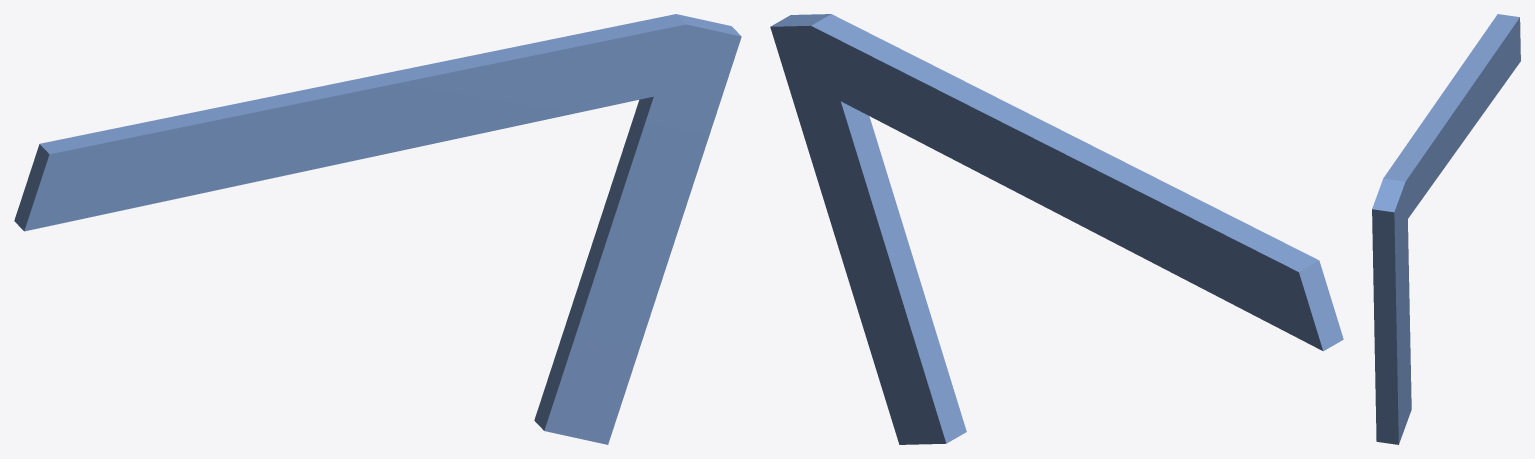
File: New_Number_7.gltf
The picture shows the model from 3 angles, left to right: view 1: azimuth 30°, elevation 25°; view 2: azimuth 150°, elevation 25°; view 3: azimuth 270°, elevation 25°; orthographic projection. The views are drawn at different scales.
Visible parts, largest first — view 1: Part 475; view 2: Part 475; view 3: Part 475.
Part boxes in pixels (box(x1,y1,x2,y2)): Part 475: box(14, 14, 741, 444); Part 475: box(770, 14, 1343, 444); Part 475: box(1372, 14, 1520, 444).
Bounding box in the file's own units: 0.00606 × 0.00363 × 0.00166.
